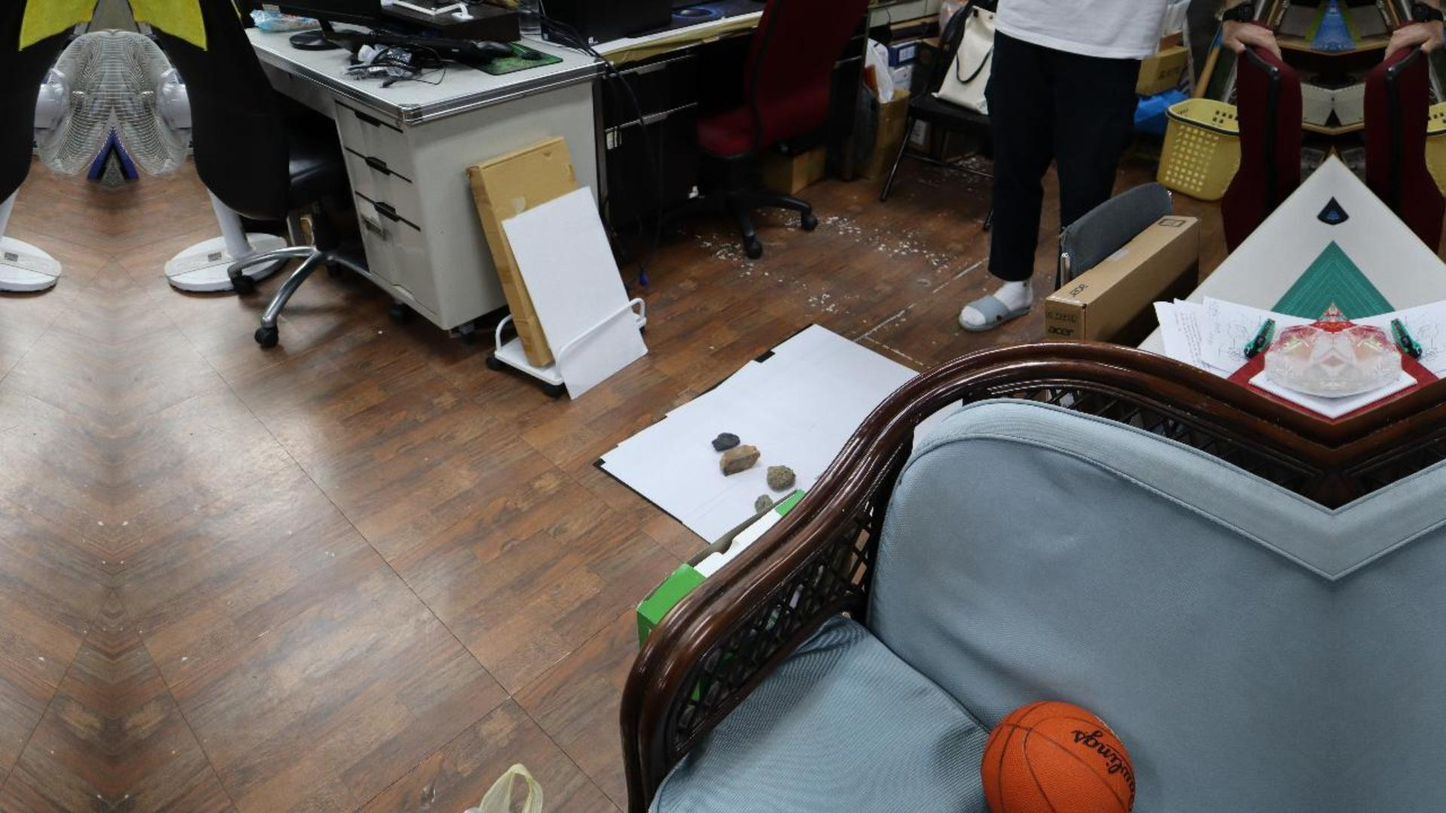rock: (720, 445, 759, 474), (766, 464, 795, 490), (712, 432, 740, 452), (754, 493, 774, 514)
